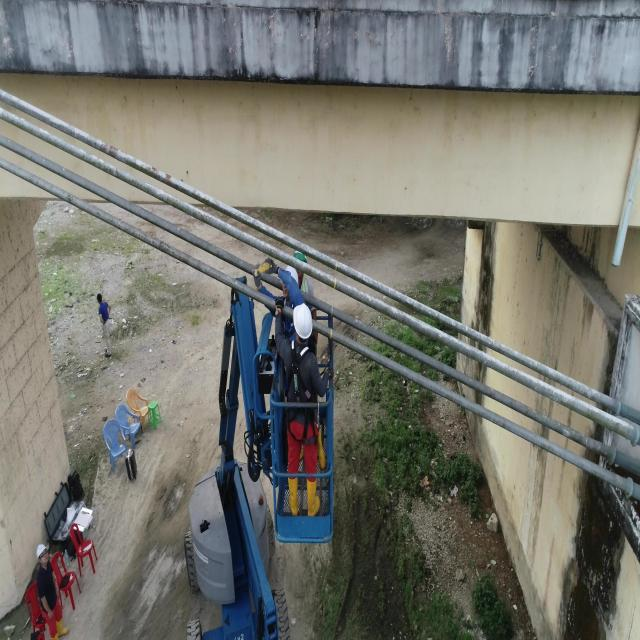corrosion: (102, 142, 108, 153), (110, 146, 116, 156), (165, 173, 171, 183), (152, 167, 158, 174)
